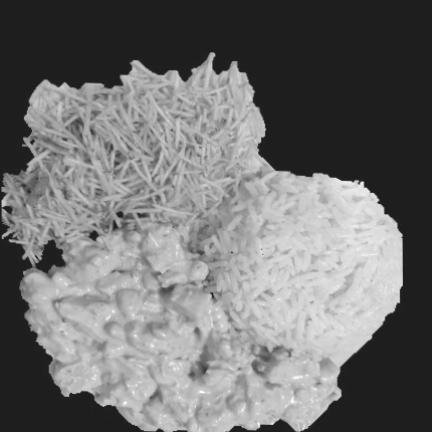chicken: (15, 226, 339, 432)
potato: (1, 66, 268, 266)
rice: (191, 173, 401, 356)
